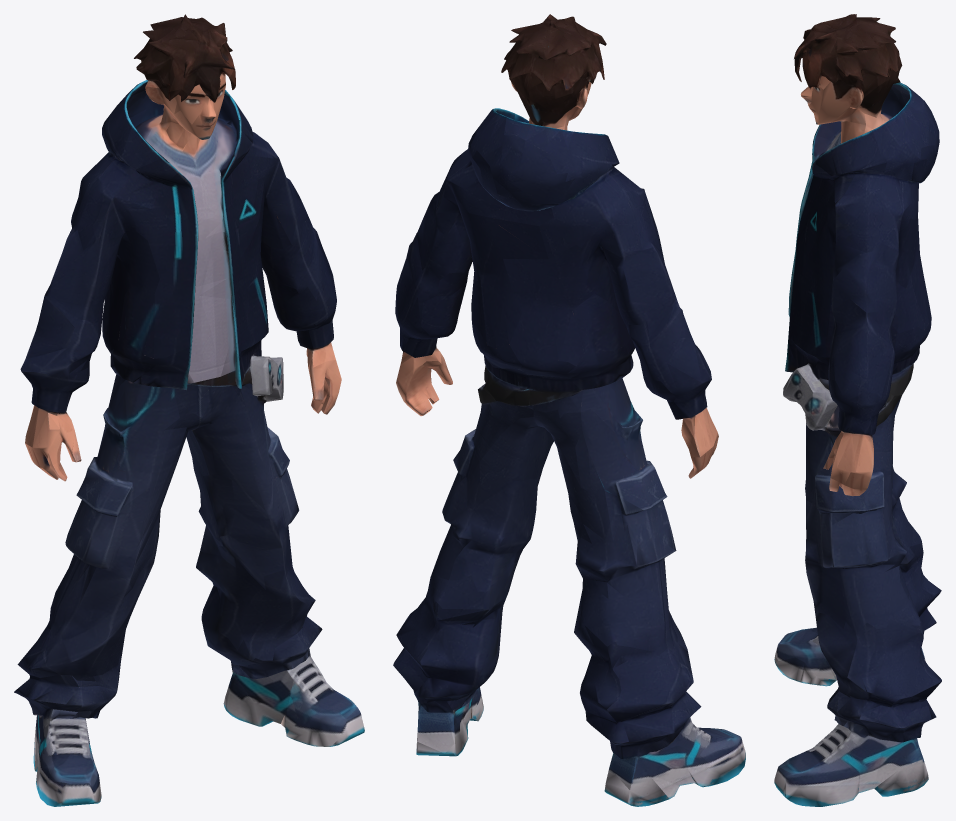
The model's file is CharacterPortfolio.glb.
3 views of the same model, side by side, from view 1: azimuth 30°, elevation 25°; view 2: azimuth 150°, elevation 25°; view 3: azimuth 270°, elevation 25° (orthographic).
Bounding box in the file's own units: 0.8475 × 1.9 × 0.397.
Materials: 1 (1 with a texture image).
